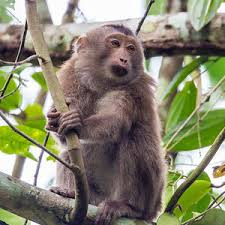monkey: (41, 13, 192, 209)
